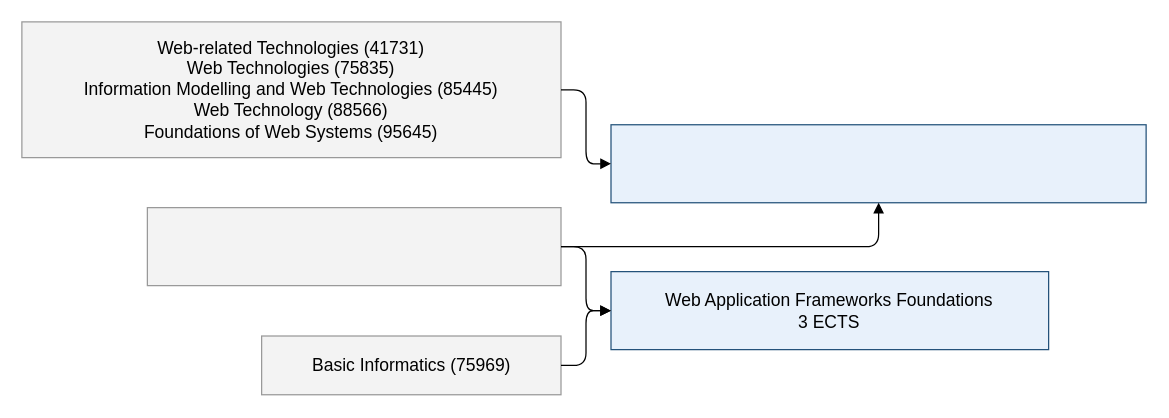
Image size: 1169x418. Some labels were removed from this diagram. Each missing label, with the box of its shape:
Web Application Frameworks, Workflows, and Stacks 3 ECTS: (610, 124, 1146, 203)
Web Systems Engineering (47240) Web Services and Applications (69867): (146, 206, 561, 286)
